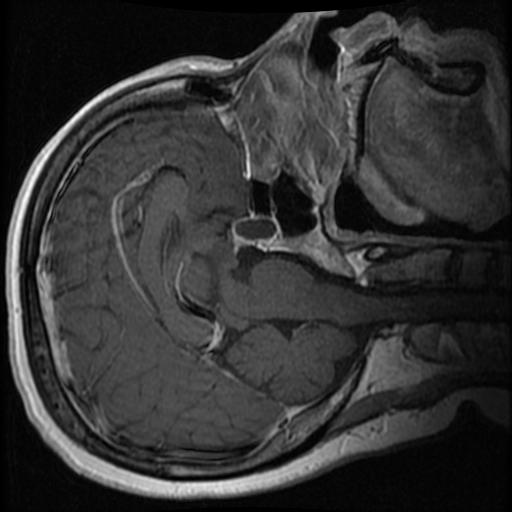pituitary tumour: (230, 214, 282, 249)
